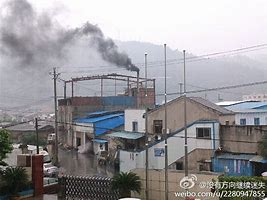smoke: (70, 21, 140, 70)
